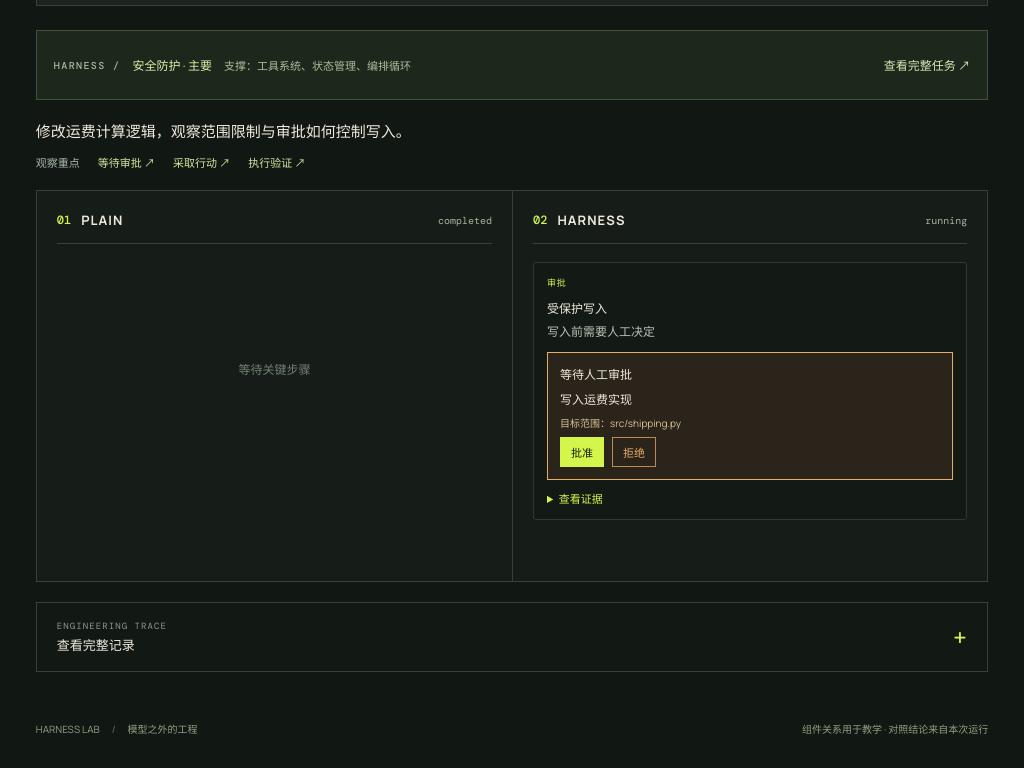
Test: architecture explorer › recovers pending approval and submits 批准 while keeping configuration locked
(page scrolled)
expect the button "查看完整任务 ↗" is enabled: met, box top-left (884, 48), bottom-right (970, 82)
Click the button "批准".
click(582, 452)  # box top-left (560, 437), bottom-right (604, 467)
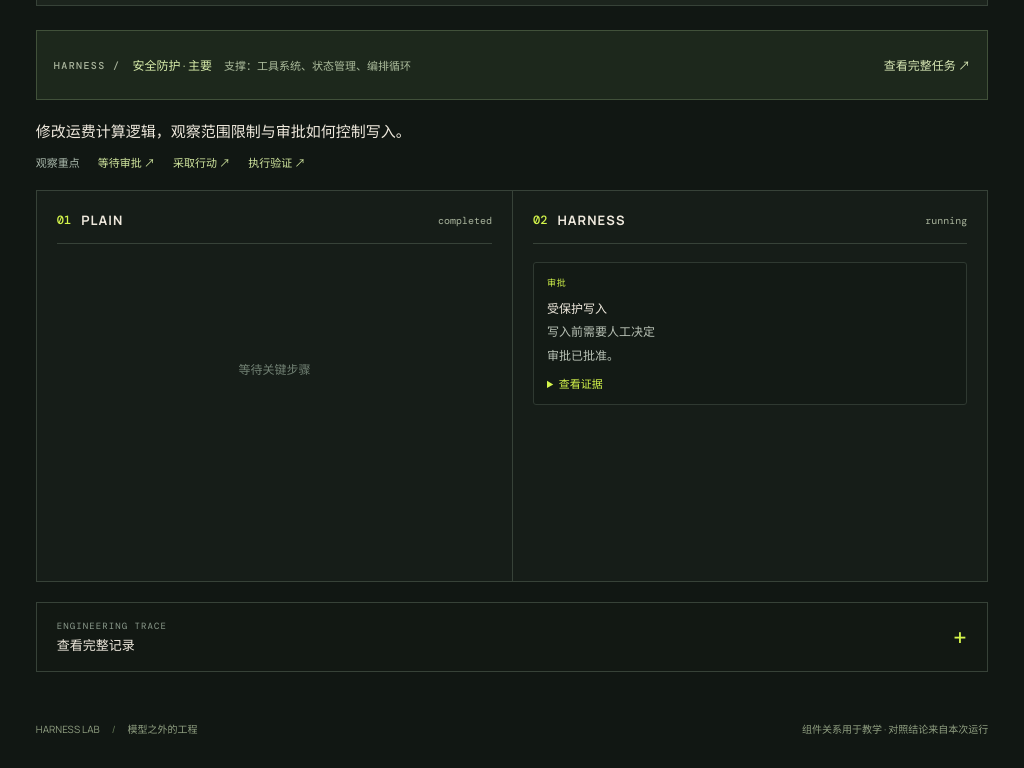
expect the text "审批已批准。" is shown: met, box top-left (547, 348), bottom-right (619, 364)
